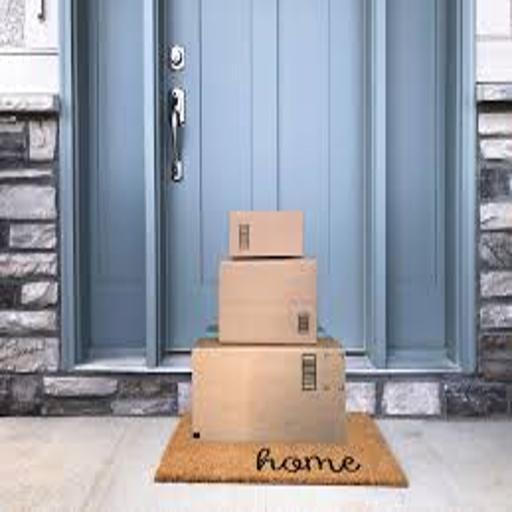Other: (187, 341, 354, 446), (218, 259, 322, 346), (229, 208, 310, 262)
